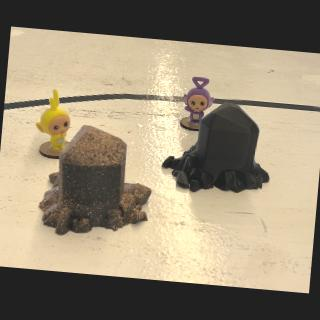teletubby: (36, 89, 71, 151), (183, 77, 214, 124)
